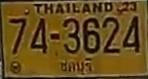2: (102, 16, 118, 52)
3: (63, 17, 79, 53)
4: (122, 15, 139, 52), (30, 17, 46, 53)
6: (82, 17, 99, 53)
7: (8, 18, 26, 54)
CBI: (57, 56, 95, 76)
